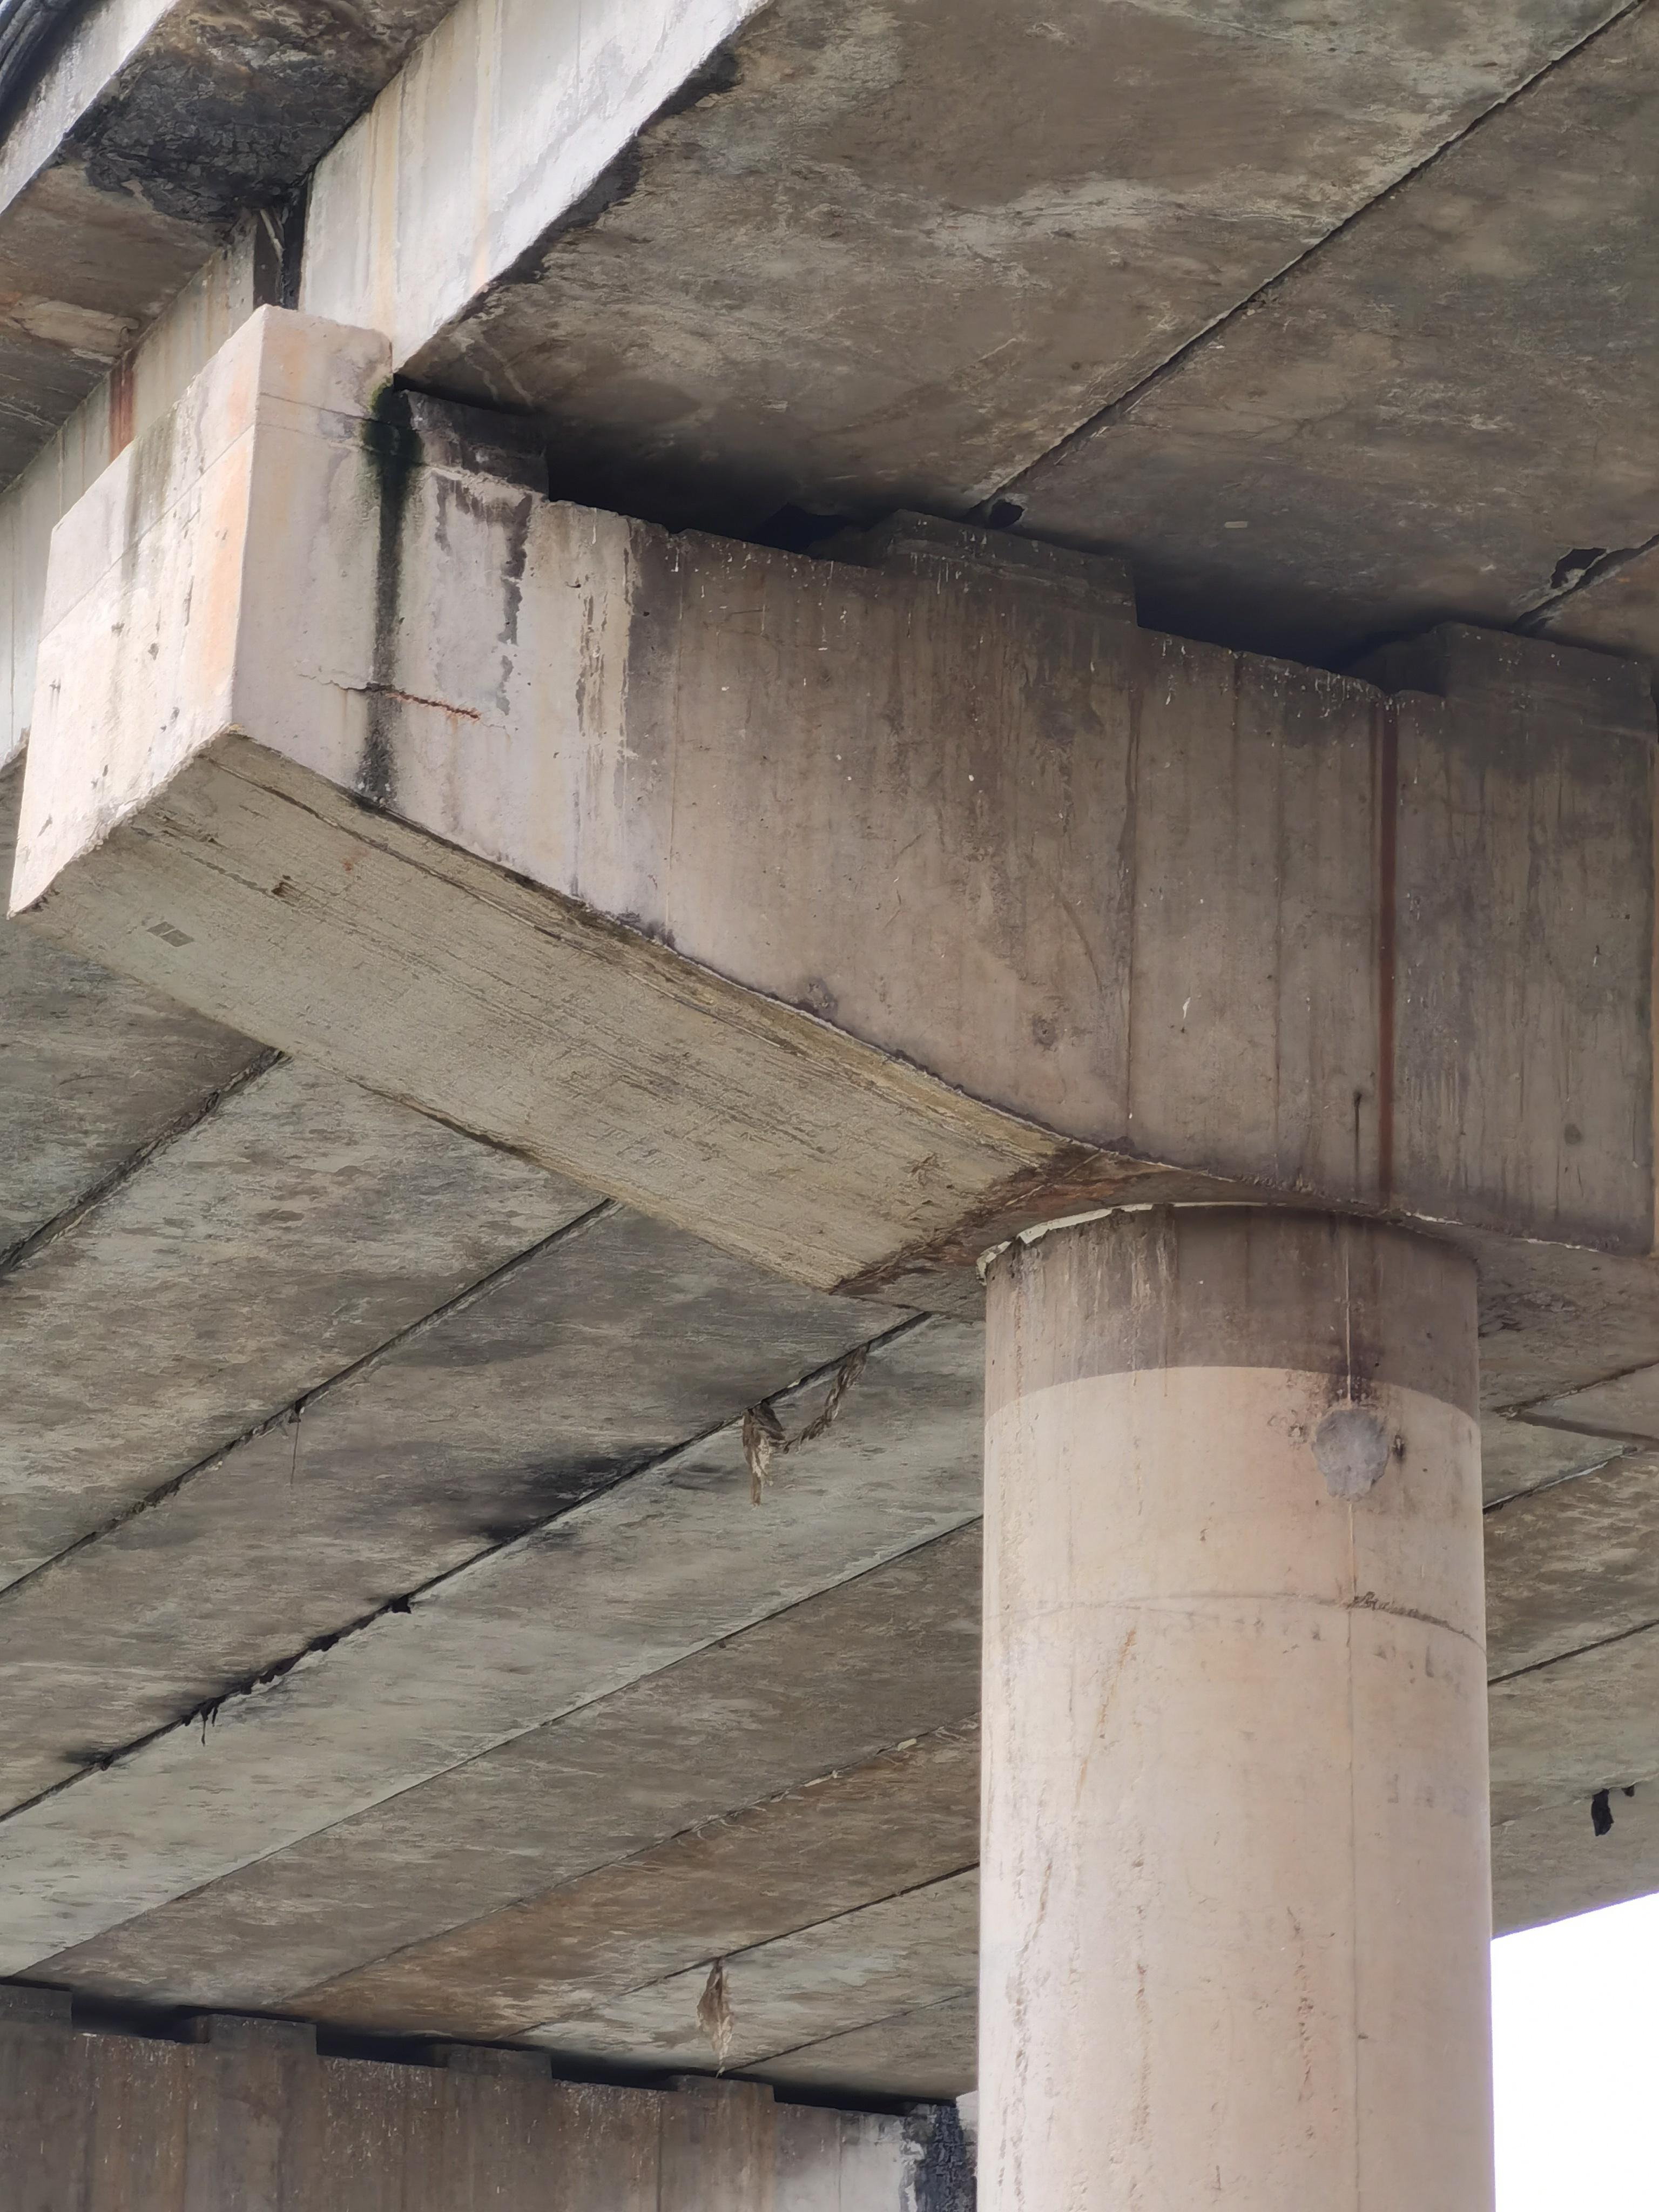corrosion: (453, 0, 1047, 418), (1133, 0, 1575, 192), (1047, 165, 1371, 247)
hole: (1549, 545, 1605, 592), (988, 495, 1025, 529), (565, 582, 582, 590), (641, 610, 650, 618)
rebar: (366, 683, 479, 721)
separation: (293, 658, 366, 691), (481, 707, 519, 742)
